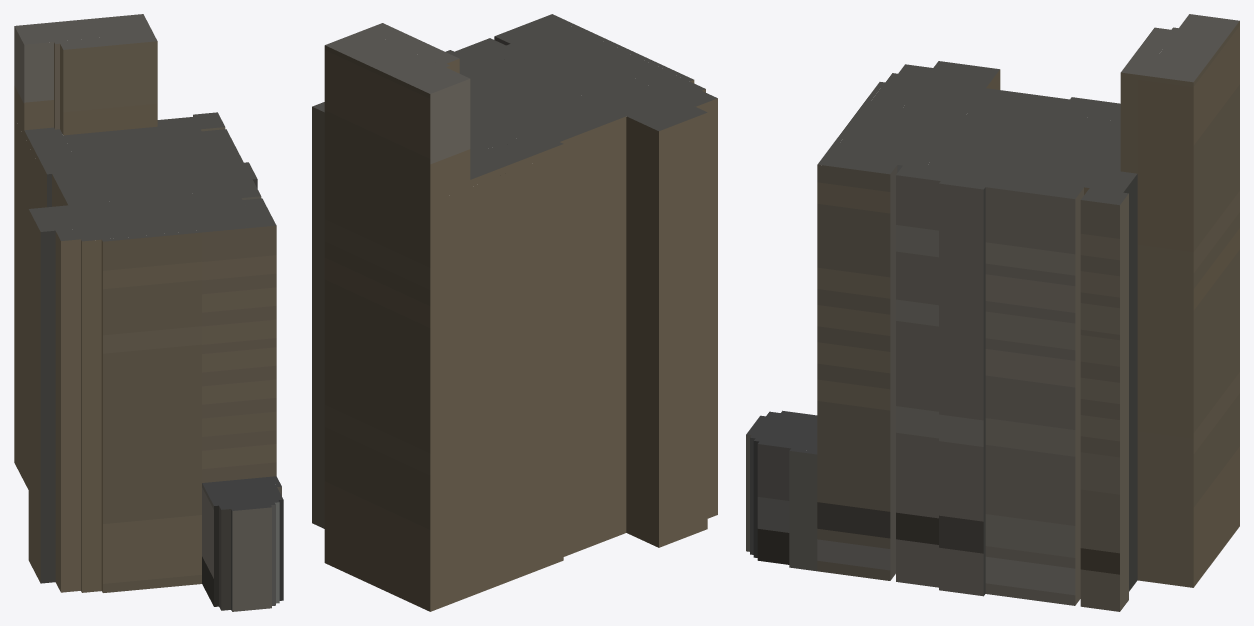
File: t_-2_6.far.glb
The picture shows the model from 3 angles, left to right: view 1: azimuth 30°, elevation 25°; view 2: azimuth 150°, elevation 25°; view 3: azimuth 270°, elevation 25°; orthographic projection. The views are drawn at different scales.
Visible parts, largest first — view 1: opaque; view 2: opaque; view 3: opaque.
Part boxes in pixels (x1,y1,x2,y2): opaque: [14, 14, 283, 611]; opaque: [312, 14, 717, 611]; opaque: [746, 14, 1239, 611].
Bounding box in the file's own units: 29.03 × 47.45 × 41.99.
Materials: 1 (1 with a texture image).
